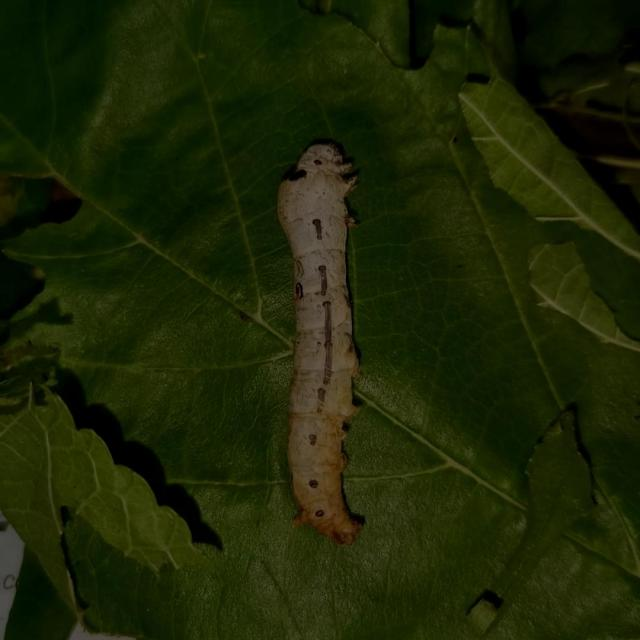Grasserie: (258, 119, 406, 548)
